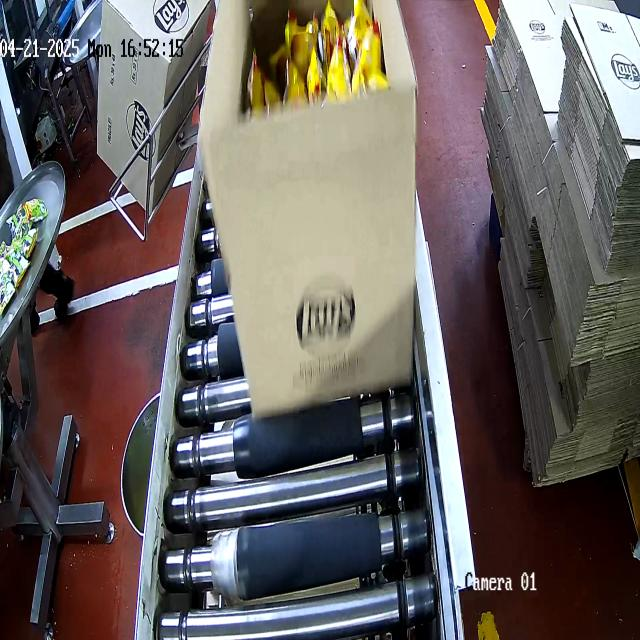SALTED: (246, 0, 399, 104)
